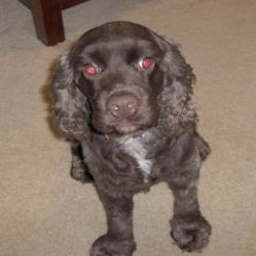dog: (50, 19, 213, 256)
